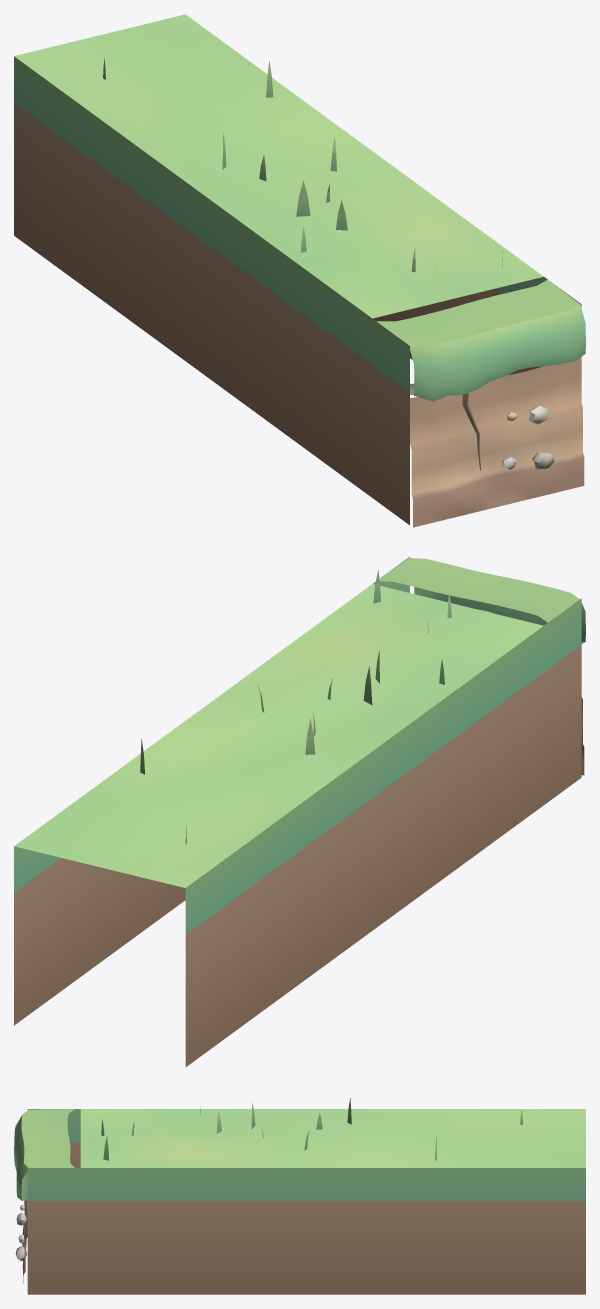
Rendered from ground_grass_0.glb.
3 renders of one model, top to bottom at view 1: azimuth 30°, elevation 25°; view 2: azimuth 150°, elevation 25°; view 3: azimuth 270°, elevation 25°, orthographic. The views are drawn at different scales.
Visible parts, largest first — view 1: ground_grass_0; view 2: ground_grass_0; view 3: ground_grass_0.
Boxes of the visible parts, x1=… form: ground_grass_0: x1=14, y1=14, x2=585, y2=527; ground_grass_0: x1=14, y1=556, x2=585, y2=1066; ground_grass_0: x1=14, y1=1098, x2=585, y2=1294.
Bounding box in the file's own units: 1 × 1.21 × 4.1.
